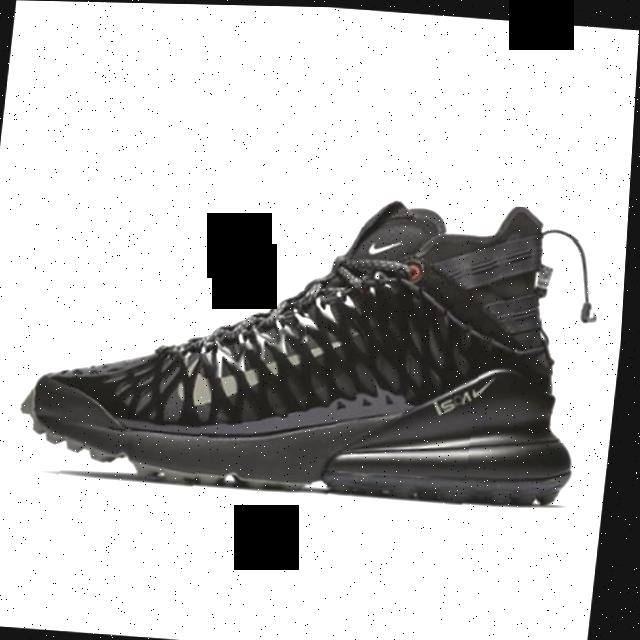shoe: (0, 169, 617, 525)
